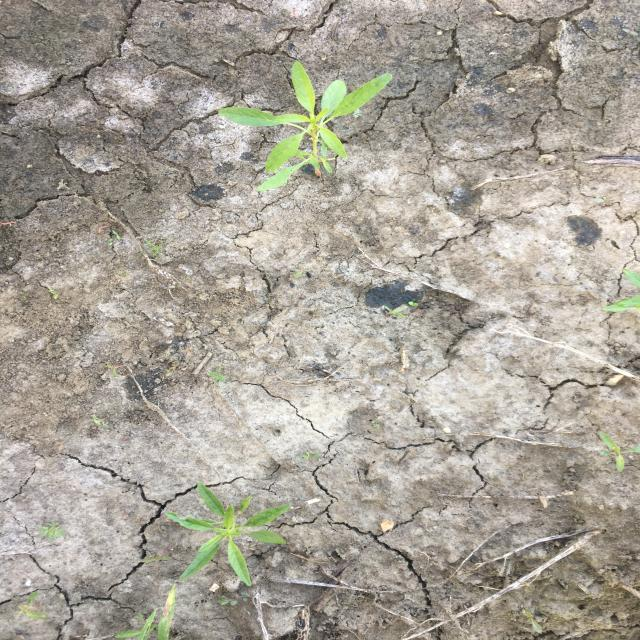Waterhemp: (216, 59, 395, 193), (163, 481, 294, 586)
